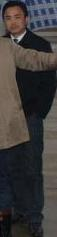boots: (0, 208, 18, 222)
